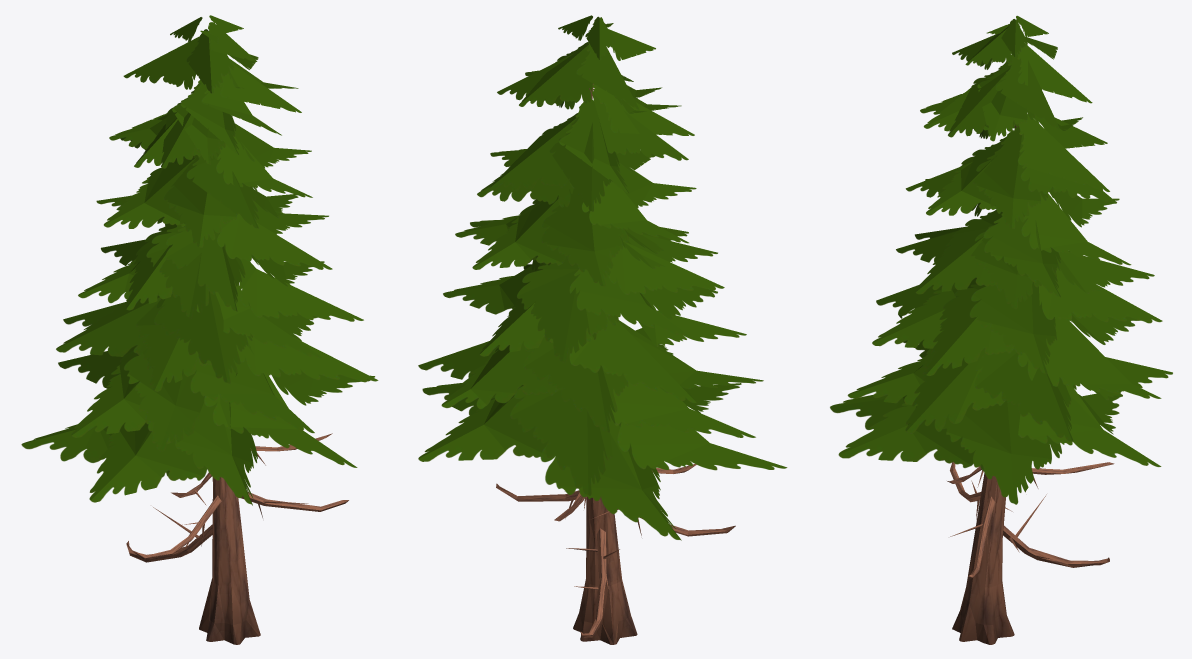
Rendered from pine.glb.
3 renders of one model, left to right at view 1: azimuth 30°, elevation 25°; view 2: azimuth 150°, elevation 25°; view 3: azimuth 270°, elevation 25°, orthographic. The views are drawn at different scales.
Parts seen in each view (by area): view 1: Pine_4; view 2: Pine_4; view 3: Pine_4.
Part boxes in pixels (left/top/right/bottom): Pine_4: left=21, top=15, right=378, bottom=644; Pine_4: left=418, top=15, right=787, bottom=644; Pine_4: left=830, top=15, right=1172, bottom=644.
Size of the model in its own units: 5.8 by 10.24 by 5.37.
Materials: 2 (2 with a texture image).
